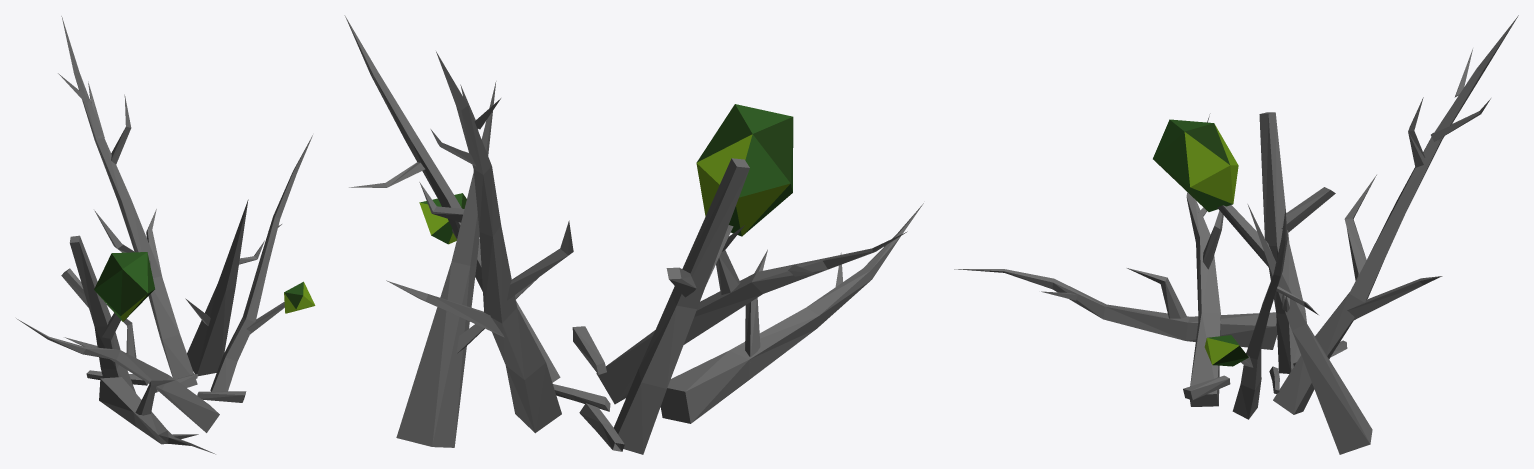
Rendered from Tree1_M1_LyingTree.fbx.
3 renders of one model, left to right at view 1: azimuth 30°, elevation 25°; view 2: azimuth 150°, elevation 25°; view 3: azimuth 270°, elevation 25°, orthographic. The views are drawn at different scales.
Parts seen in each view (by area): view 1: Tree1_M1_LyingTree; view 2: Tree1_M1_LyingTree; view 3: Tree1_M1_LyingTree.
Boxes of the visible parts, x1=… form: Tree1_M1_LyingTree: x1=16, y1=16, x2=315, y2=454; Tree1_M1_LyingTree: x1=344, y1=15, x2=923, y2=454; Tree1_M1_LyingTree: x1=954, y1=15, x2=1518, y2=454.
Size of the model in its own units: 549 by 514 by 675.
